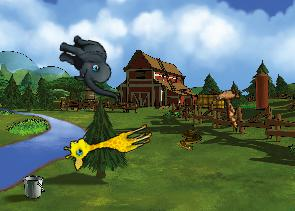eagle: (199, 74, 258, 131)
elephant: (50, 32, 130, 102)
giraffe: (60, 112, 155, 173)
